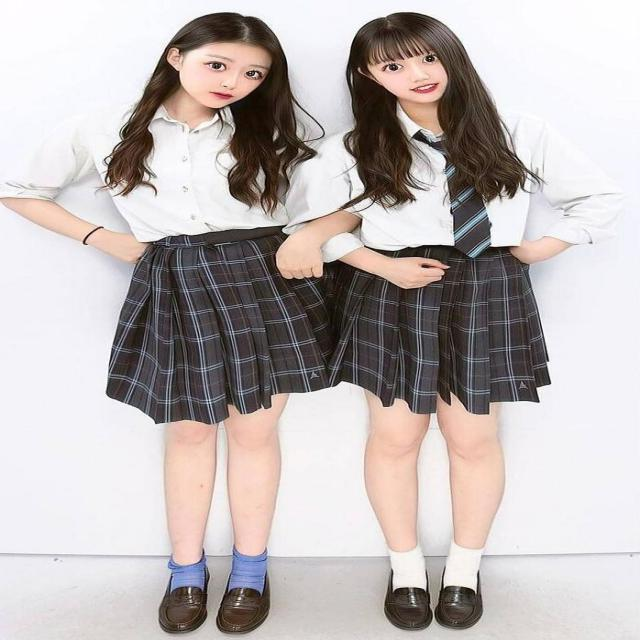direk: (10, 12, 336, 640), (330, 6, 622, 638)
